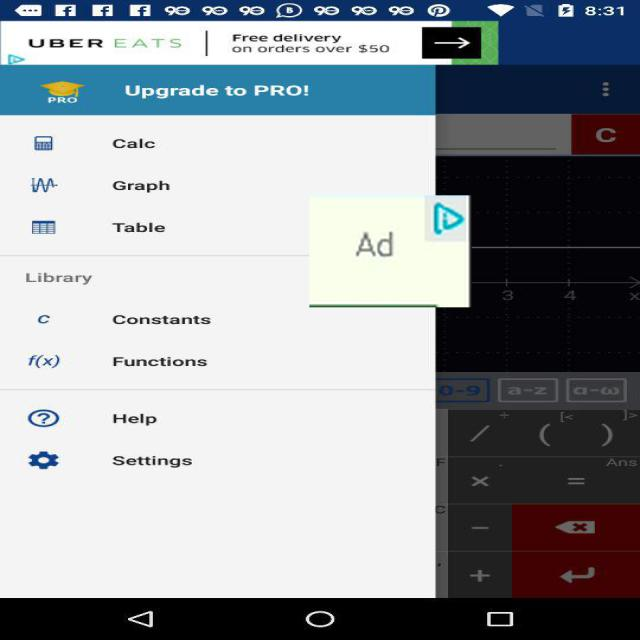sneaking: (309, 195, 472, 308)
